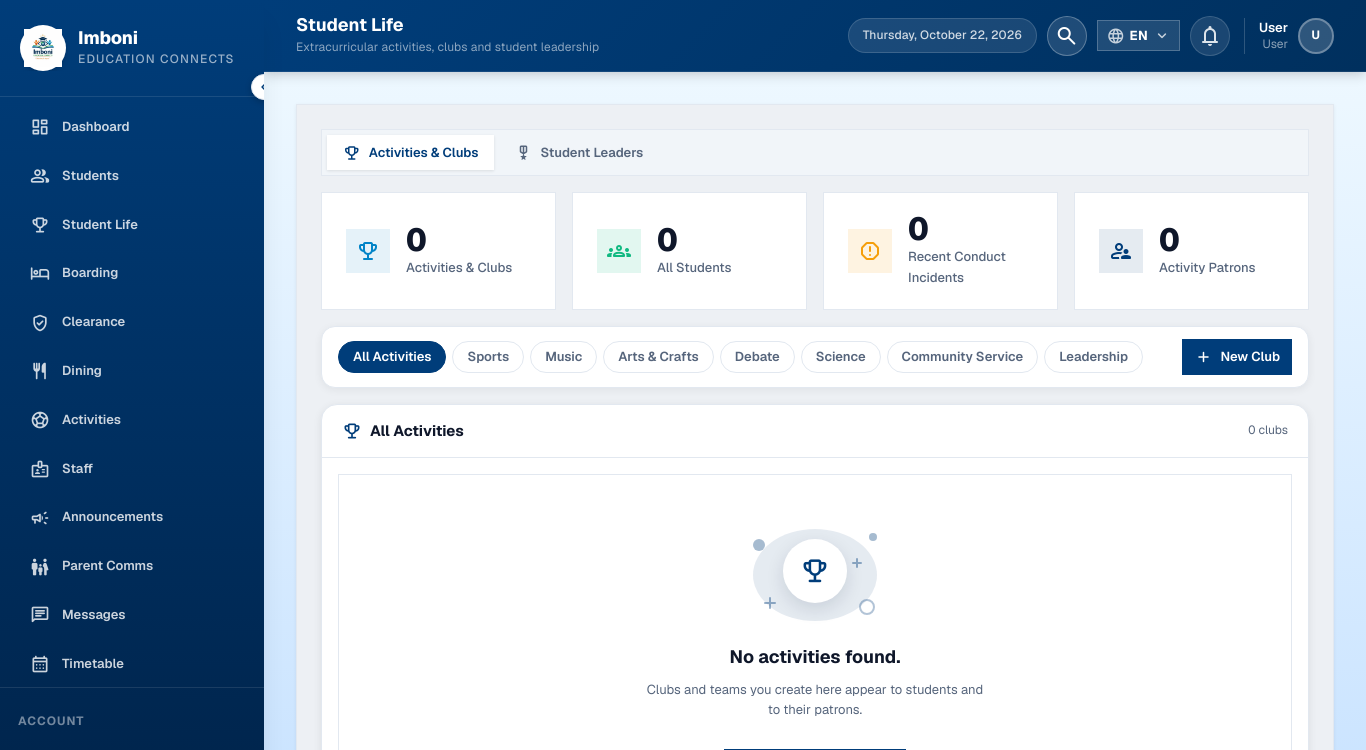
DisStudentLife › switches to the leaders tab and shows prefects and dormitory captains
The width and height of the screenshot is (1366, 750).
Expected: the text "No activities found." is shown, [730,643,900,672]
Click the tab "Student Leaders".
click(579, 153)  # box [498,135,659,170]
(page scrolled)
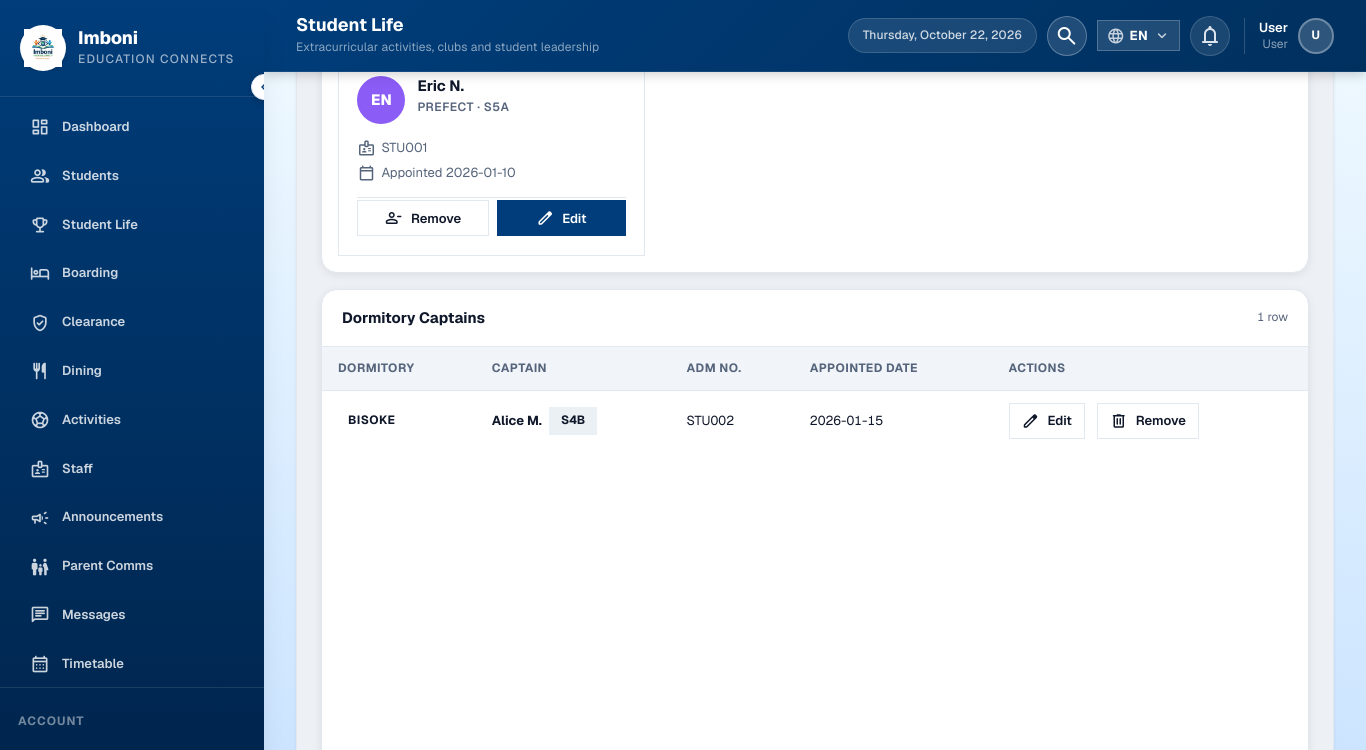
Result: the heading "Eric N." is shown at [417,76,464,95]
Result: the text "Alice M." is shown at [492,411,542,428]
